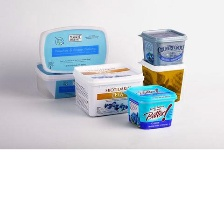plastic_box: (68, 58, 148, 119), (32, 21, 115, 77), (33, 54, 118, 101), (118, 78, 180, 134), (134, 54, 188, 105), (134, 24, 191, 69)
